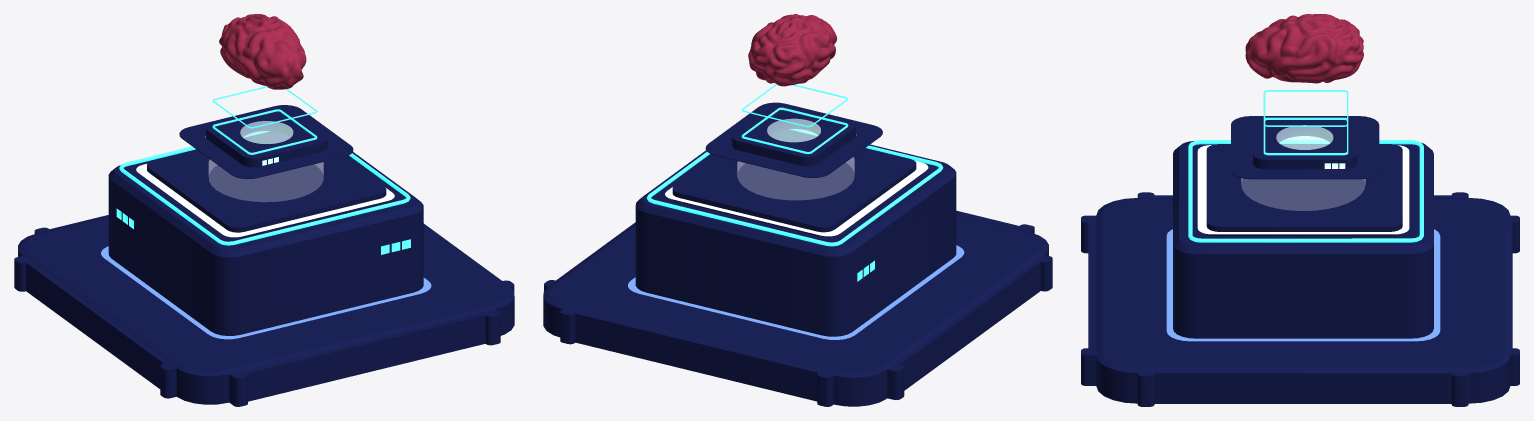
File: The_mystery_cityblend46.glb
3 renders of one model, left to right at view 1: azimuth 30°, elevation 25°; view 2: azimuth 150°, elevation 25°; view 3: azimuth 270°, elevation 25°, orthographic. The views are drawn at different scales.
Parts seen in each view (by area): view 1: Main_platform.001, Main_platform, Main_platform.005, Cube.001, Cube.003, Brain, Plane.004, Suppourt, Main_platform.002, Plane.002, Main_platform.007, Main_platform.008 (+2 smaller); view 2: Main_platform.001, Main_platform, Main_platform.005, Cube.002, Cube.003, Brain, Plane.004, Suppourt, Main_platform.002, Plane.002, Main_platform.008, Main_platform.007 (+2 smaller); view 3: Main_platform, Main_platform.001, Main_platform.005, Cube.004, Brain, Plane.004, Suppourt, Main_platform.002, Plane.002, Main_platform.008, Main_platform.007, Cube.001 (+5 smaller).
Part boxes in pixels (left/top/right/bottom): Main_platform.001: left=108, top=132, right=423, bottom=335; Main_platform: left=18, top=216, right=514, bottom=404; Main_platform.005: left=147, top=131, right=386, bottom=237; Cube.001: left=229, top=309, right=500, bottom=406; Cube.003: left=14, top=256, right=176, bottom=398; Brain: left=219, top=14, right=306, bottom=89; Plane.004: left=206, top=107, right=327, bottom=167; Suppourt: left=179, top=105, right=353, bottom=179; Main_platform.002: left=209, top=160, right=323, bottom=201; Plane.002: left=119, top=131, right=410, bottom=245; Main_platform.007: left=136, top=164, right=394, bottom=237; Main_platform.008: left=101, top=246, right=431, bottom=339; Main_platform.001: left=635, top=144, right=956, bottom=336; Main_platform: left=543, top=214, right=1048, bottom=406; Main_platform.005: left=672, top=129, right=916, bottom=236; Cube.002: left=560, top=309, right=833, bottom=406; Cube.003: left=887, top=255, right=1052, bottom=399; Brain: left=748, top=14, right=837, bottom=86; Plane.004: left=732, top=104, right=855, bottom=166; Suppourt: left=705, top=102, right=882, bottom=177; Main_platform.002: left=737, top=157, right=854, bottom=199; Plane.002: left=646, top=129, right=943, bottom=246; Main_platform.008: left=628, top=245, right=964, bottom=339; Main_platform.007: left=665, top=161, right=928, bottom=236; Main_platform: left=1096, top=198, right=1510, bottom=403; Main_platform.001: left=1173, top=141, right=1433, bottom=338; Main_platform.005: left=1206, top=144, right=1402, bottom=236; Cube.004: left=1137, top=373, right=1468, bottom=406; Brain: left=1245, top=14, right=1363, bottom=83; Plane.004: left=1253, top=116, right=1356, bottom=169; Suppourt: left=1231, top=116, right=1379, bottom=179; Main_platform.002: left=1241, top=178, right=1365, bottom=210; Plane.002: left=1188, top=140, right=1423, bottom=242; Main_platform.008: left=1166, top=229, right=1440, bottom=341; Main_platform.007: left=1197, top=145, right=1409, bottom=234; Cube.001: left=1081, top=215, right=1096, bottom=385.
Size of the model in its own units: 8.3 by 6.3 by 8.37.
